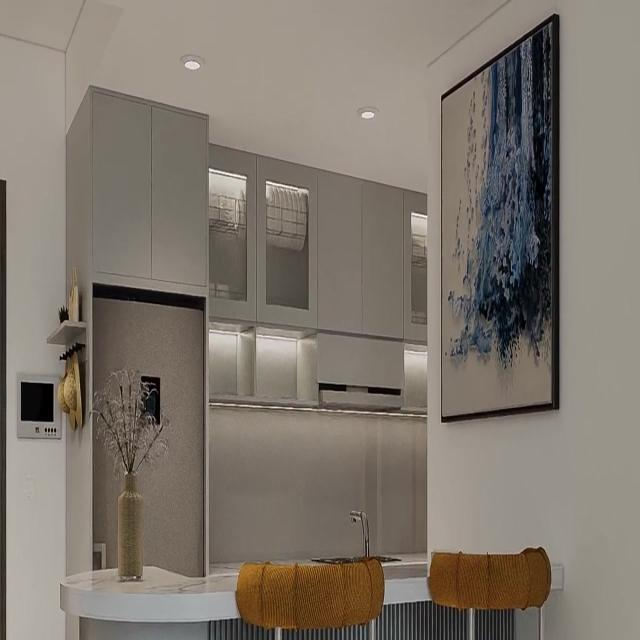obstacle: (59, 559, 547, 638), (92, 289, 206, 579)
